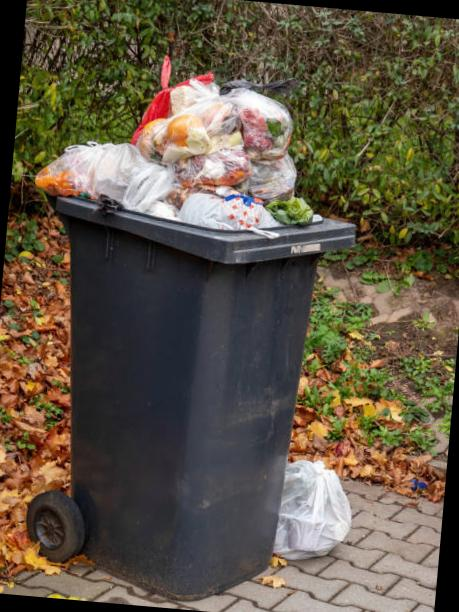trash: (37, 37, 350, 250), (280, 446, 354, 563)
trash_can_overflow: (0, 39, 397, 612)
